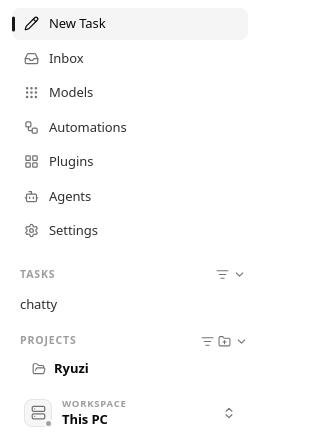
it: collapsing the Tasks section hides its rows
Expected: the text "chatty" is shown, [20,294,57,312]
Click the button named "collapse tasks" at (240, 274), box [233,268,246,281]
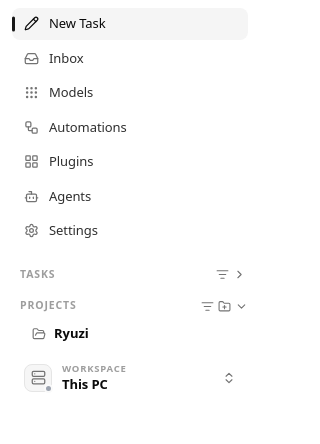
Expected: the button "chatty" is gone
